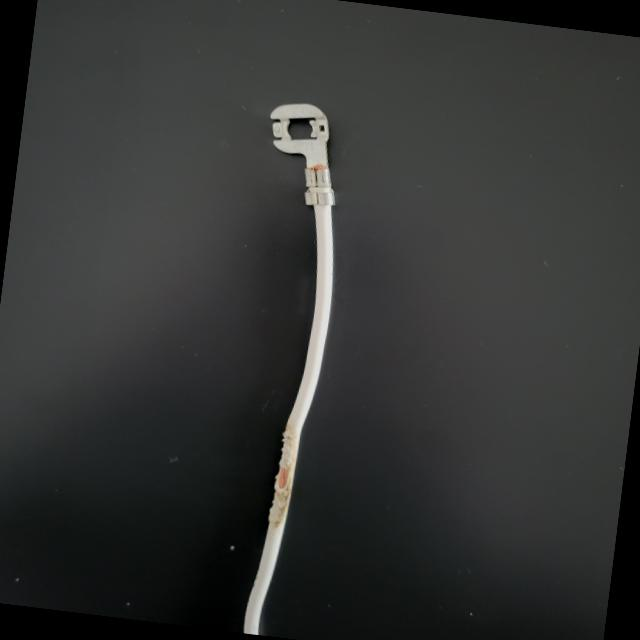defect: (241, 403, 334, 570)
